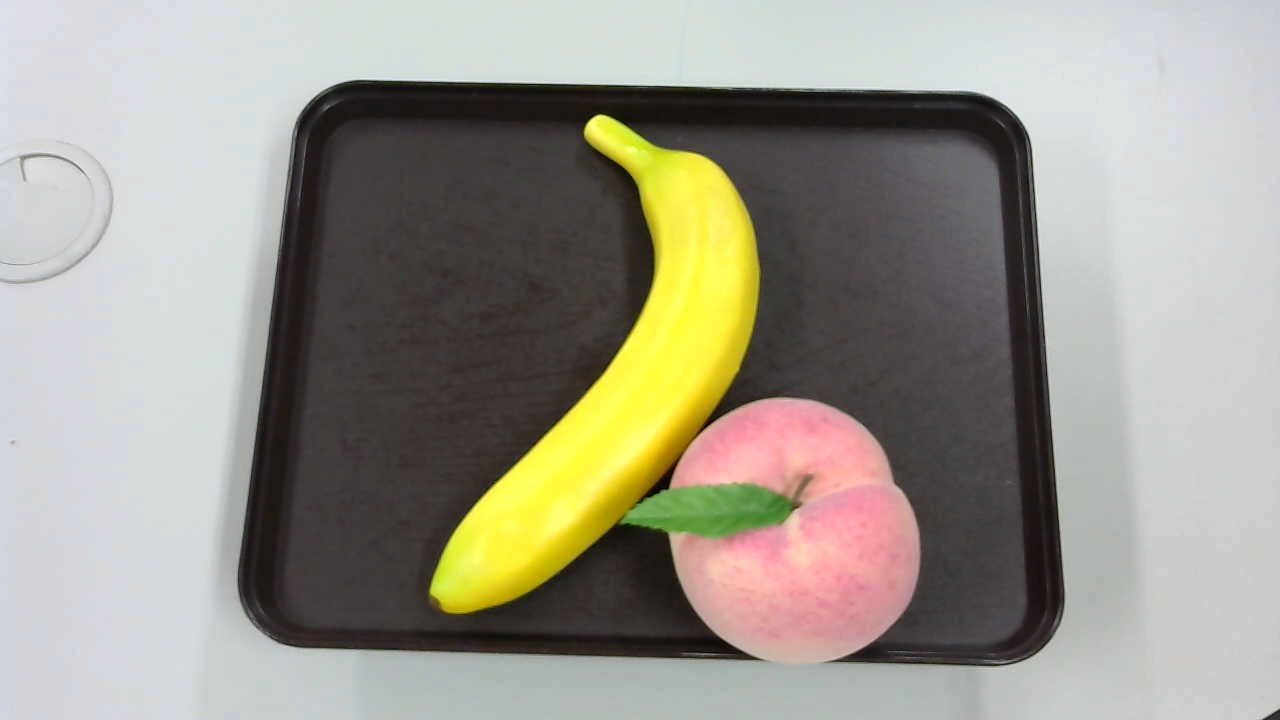banana: (431, 91, 763, 621)
peach: (616, 398, 921, 669)
